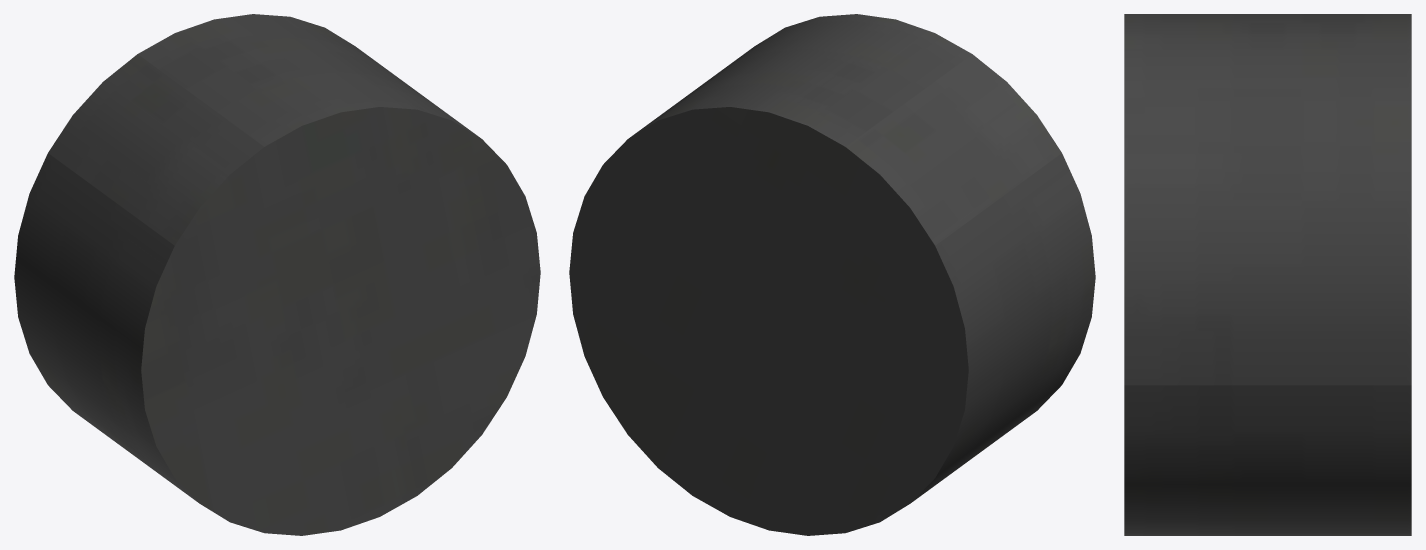
Rendered from front_right_caster__swivel_head.glb.
3 renders of one model, left to right at view 1: azimuth 30°, elevation 25°; view 2: azimuth 150°, elevation 25°; view 3: azimuth 270°, elevation 25°, orthographic. The views are drawn at different scales.
Visible parts, largest first — view 1: geometry_0; view 2: geometry_0; view 3: geometry_0.
Part boxes in pixels (x1,y1,x2,y2): geometry_0: (14,14,540,535); geometry_0: (569,14,1095,535); geometry_0: (1124,14,1411,535).
Size of the model in its own units: 0.04 by 0.04 by 0.022.
1 material, 1 textured.
